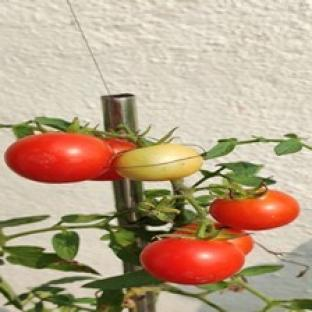Tomato: (5, 133, 114, 183), (141, 239, 245, 285), (211, 190, 299, 229), (115, 144, 203, 181), (94, 138, 136, 181), (212, 223, 254, 254)
